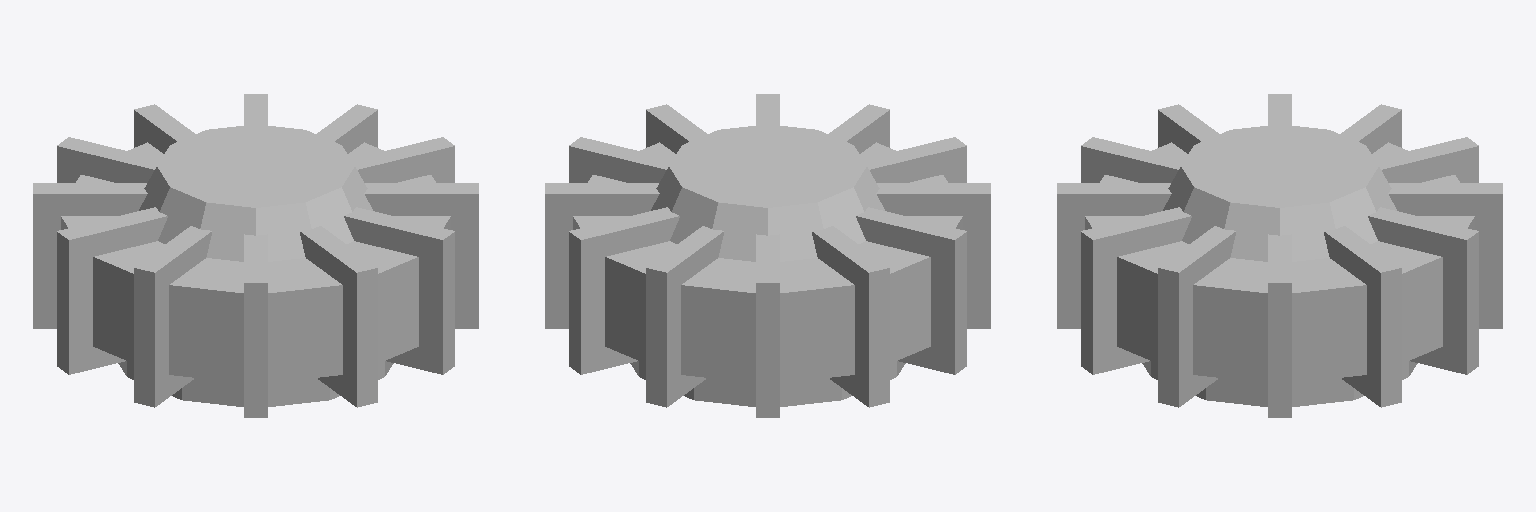
The model's file is mine_shrap.obj.
3 views of the same model, side by side, from view 1: azimuth 30°, elevation 25°; view 2: azimuth 150°, elevation 25°; view 3: azimuth 270°, elevation 25° (orthographic).
Visible parts, largest first — view 1: Circle; view 2: Circle; view 3: Circle.
Boxes of the visible parts, x1,y1,x2,y2 form: Circle: [33, 94, 478, 417]; Circle: [545, 94, 990, 417]; Circle: [1057, 94, 1502, 417].
Bounding box in the file's own units: 1.12 × 0.5 × 1.12.